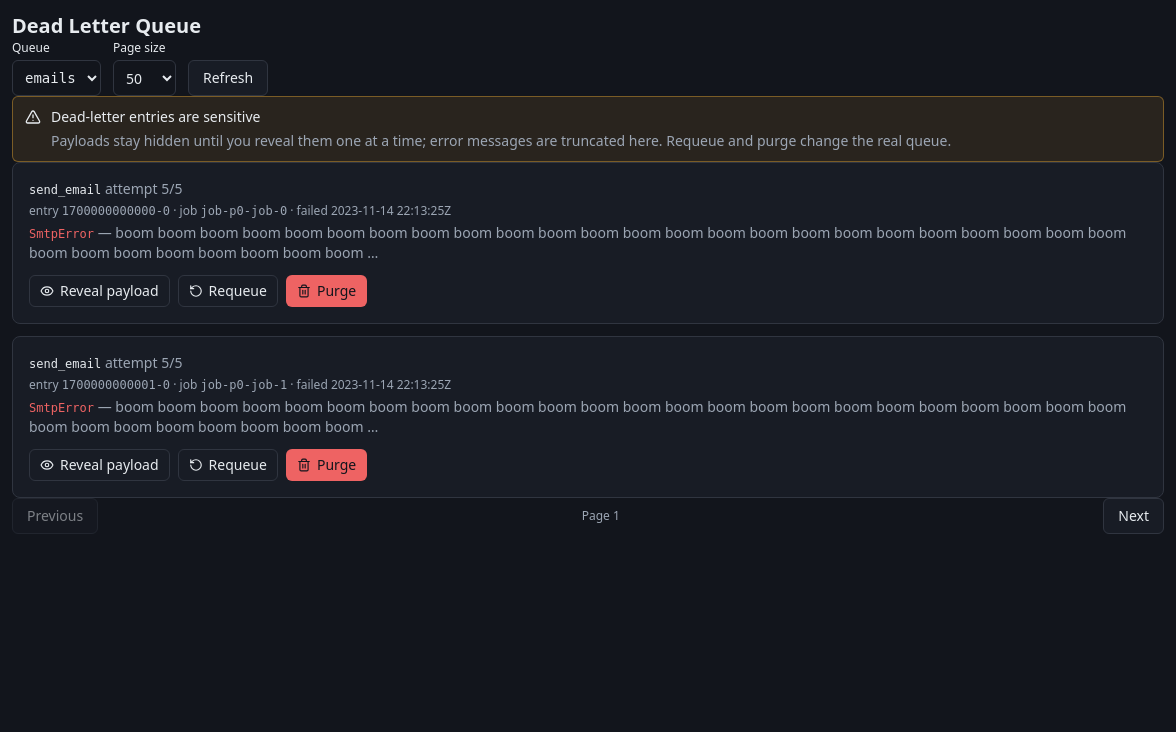
Test: dead-letter queue › paginates with the server-provided cursor and goes back
This screenshot has width=1176, height=732.
Check: the text "job-p0-job-0" is shown, box [200,204,287,218]
Click the button "Next" at (1134, 516), box [1103,498,1164,534]
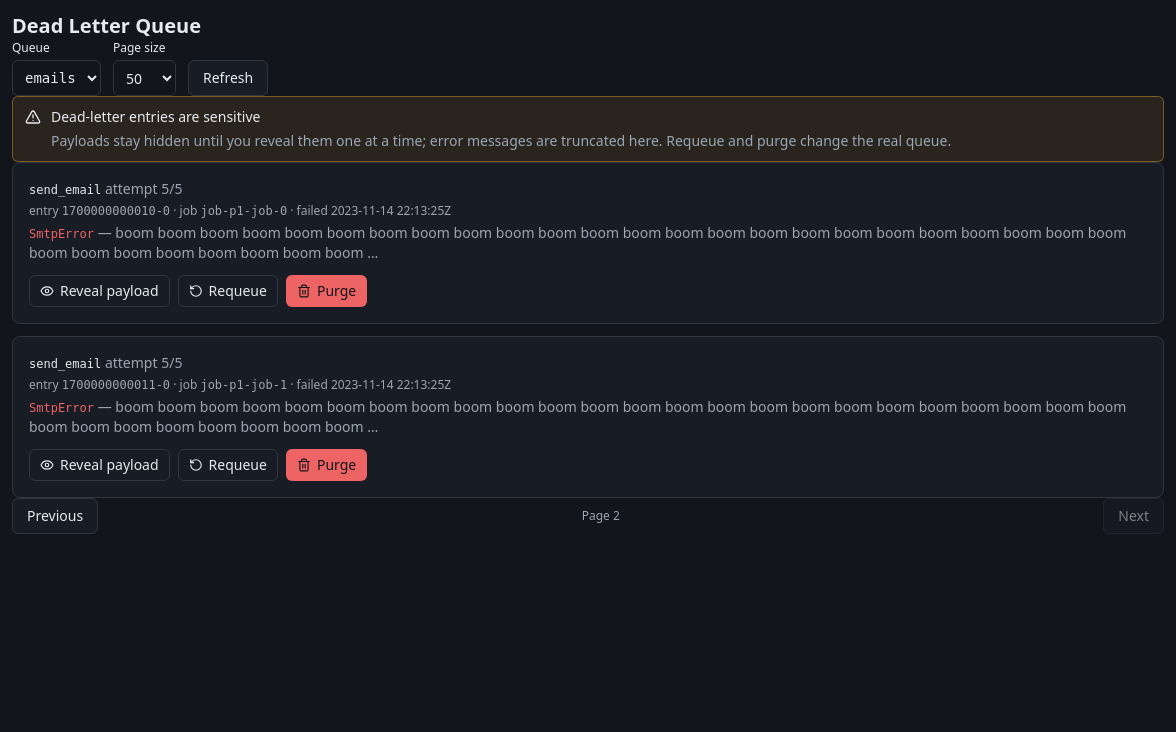
Check: the text "job-p1-job-0" is shown, box [200,204,287,218]
Check: the button "Next" is disabled, box [1103,498,1164,534]
Click the button "Previous" at (55, 516), box [12,498,98,534]
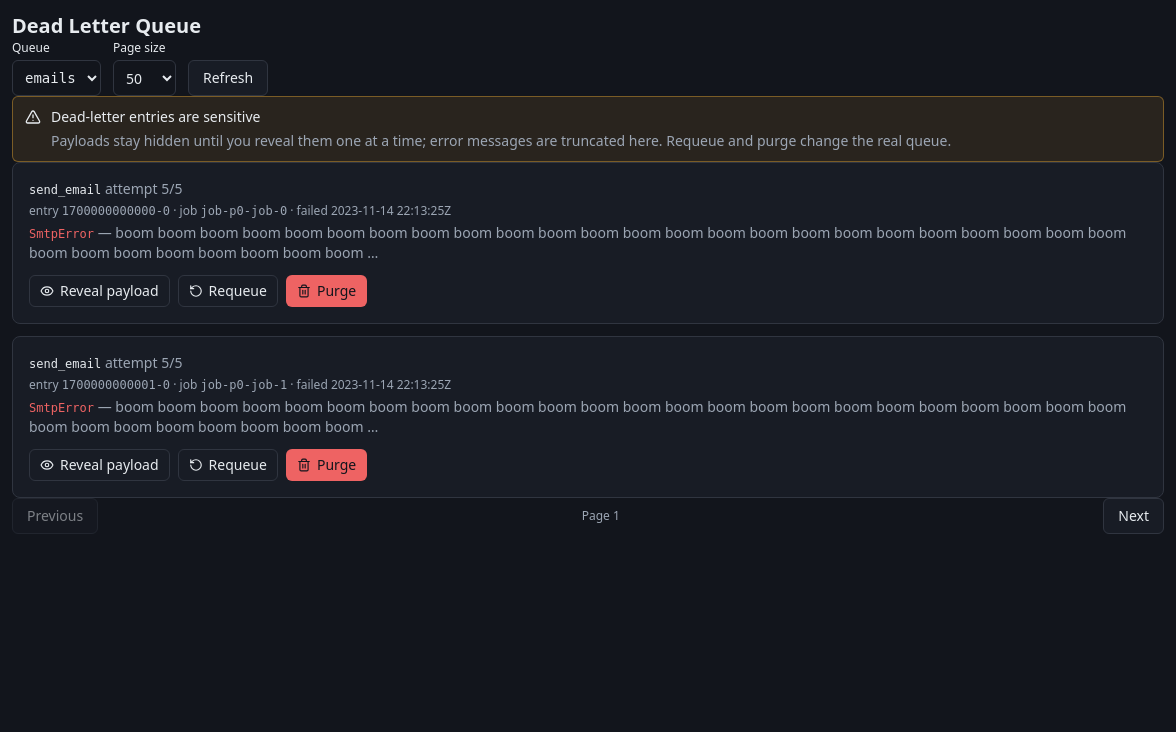
Check: the text "job-p0-job-0" is shown, box [200,204,287,218]
